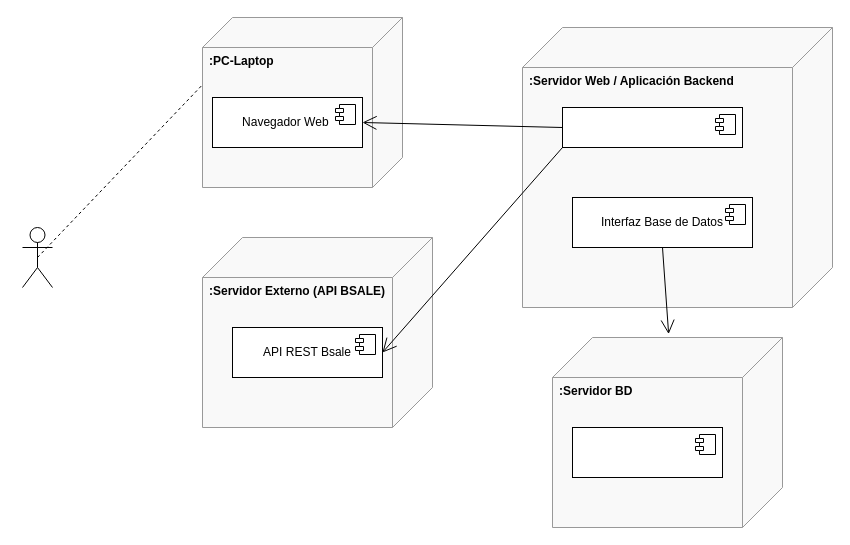
The diagram is 850 pixels wide and 545 high, and some of its shapes have lost their labels. The centre of each missing label's shape, as x and y in pixels:
Aplicación WEB: (x=652, y=127)
PostgreSQL: (x=647, y=452)
Usuario: (x=37, y=257)
